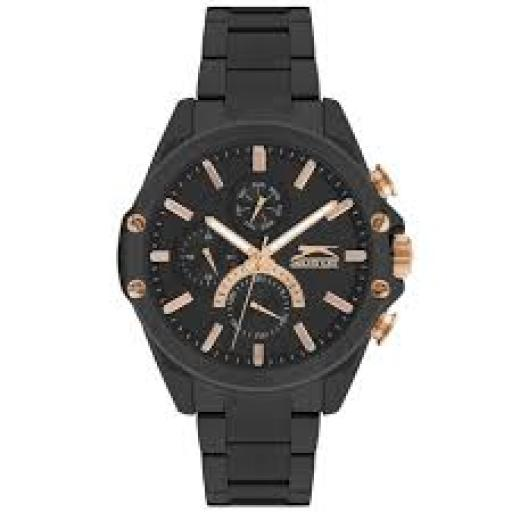KolSaati: (106, 1, 442, 512)
